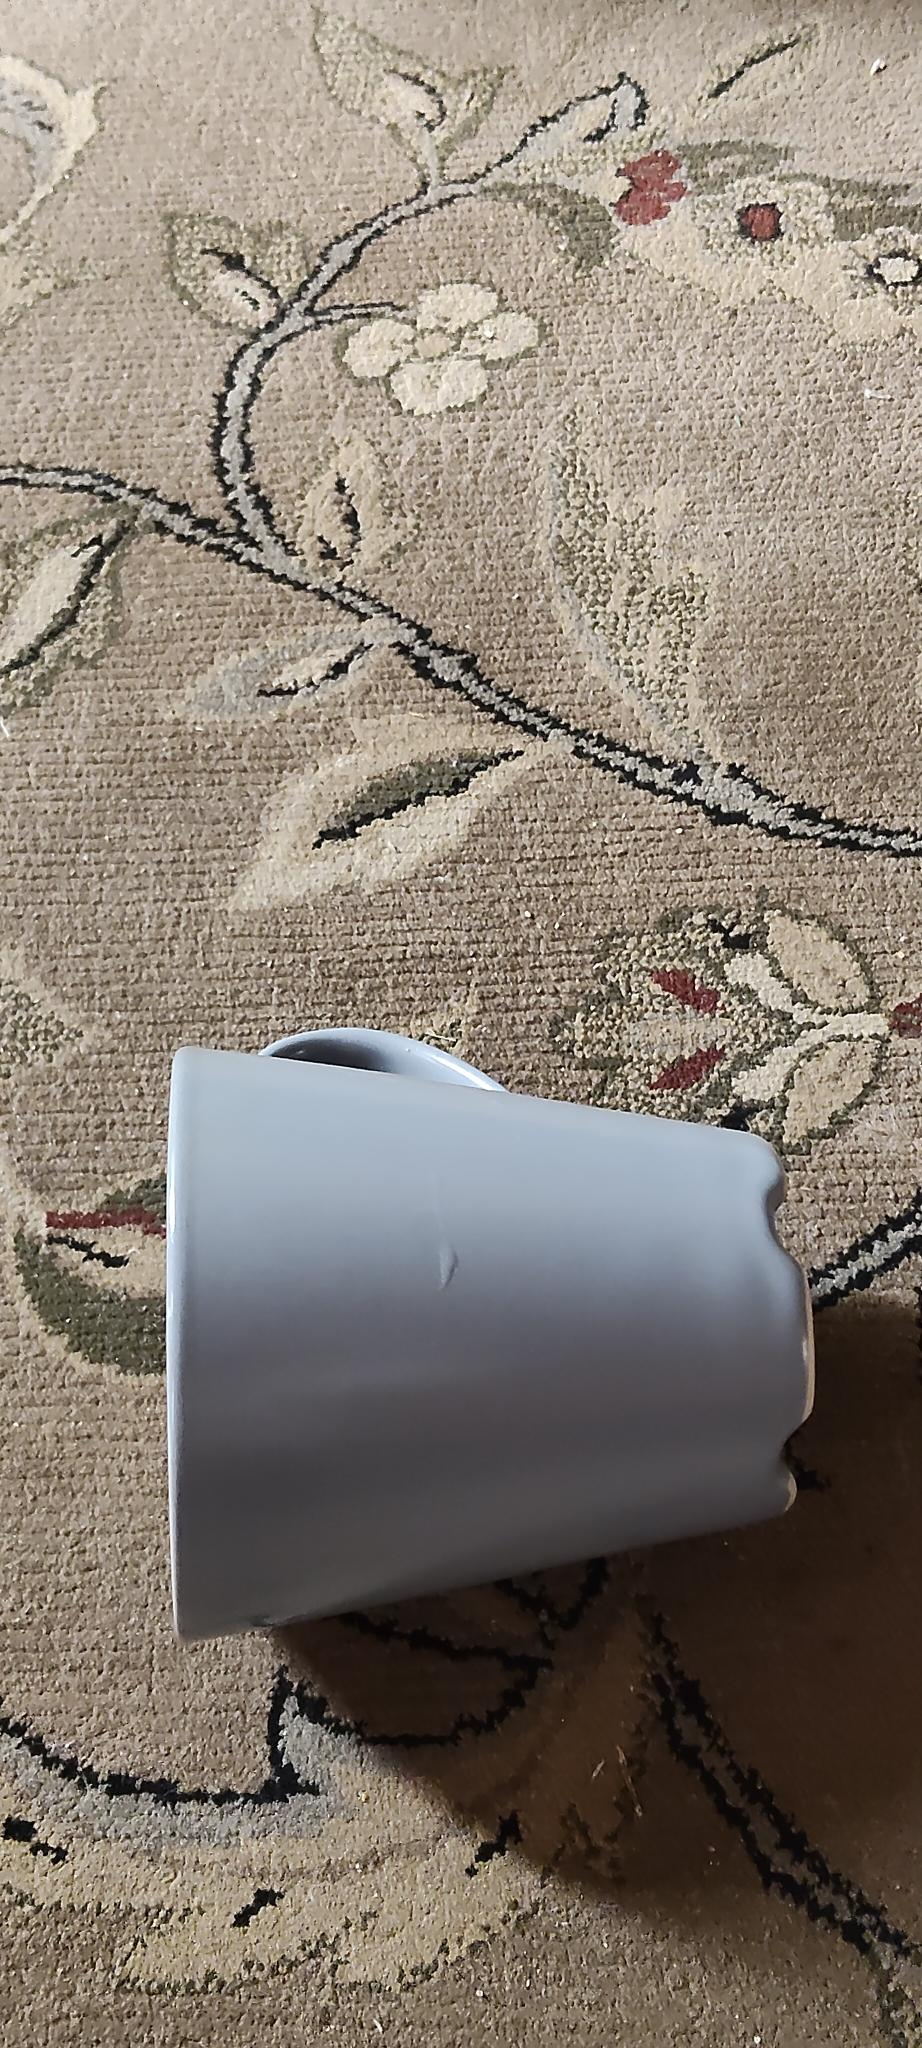Mug: (160, 1019, 820, 1642)
